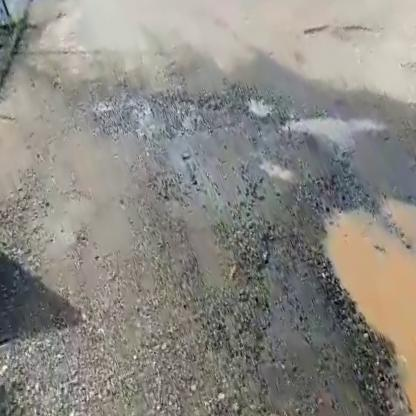pothole: (288, 145, 416, 416)
